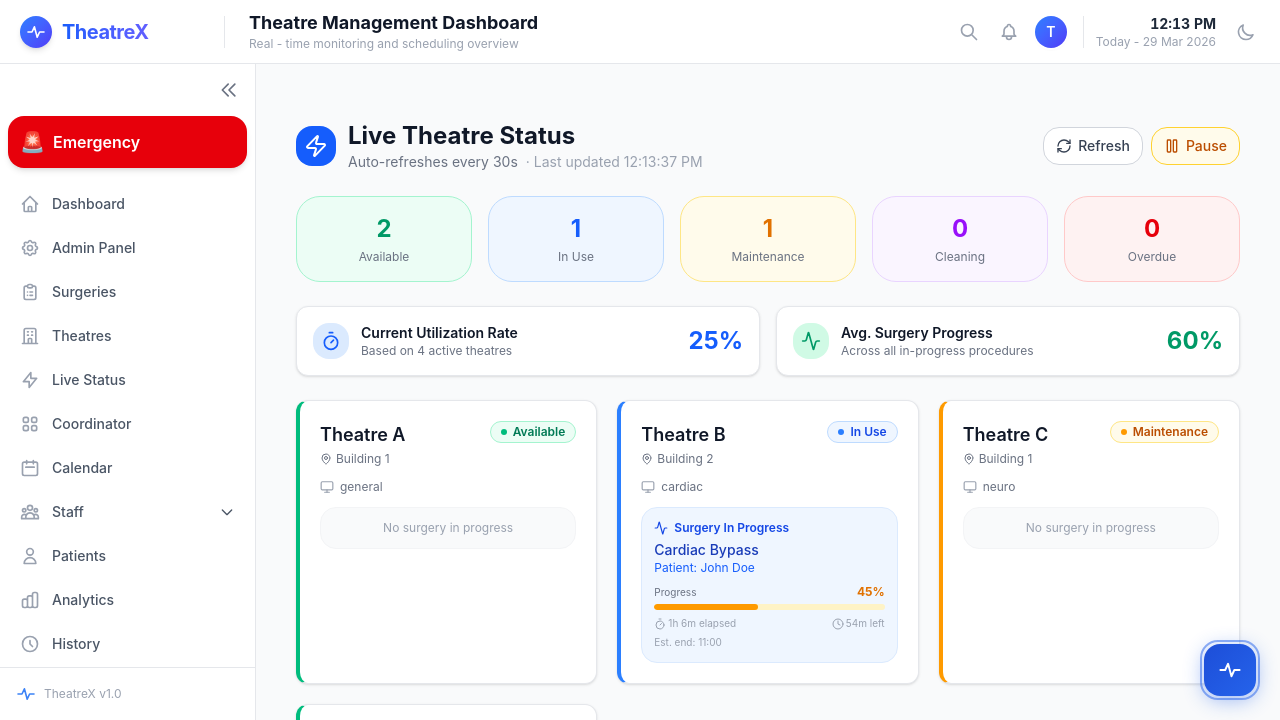
Scenario: LiveStatusPage › should toggle to Resume when Pause is clicked
Click the button "Pause" at (1195, 146), box 1151,127 -> 1240,165
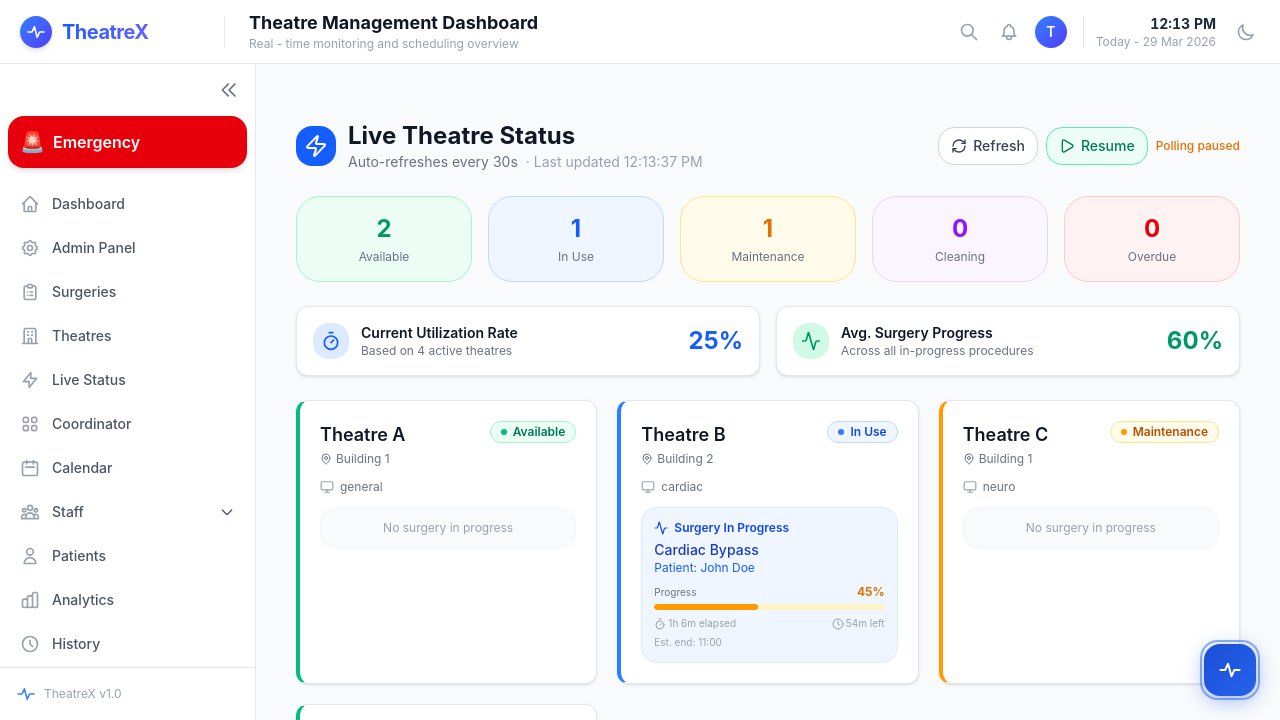
Expected: the button "Resume" is shown, 1046,127 -> 1148,165
Expected: the text "Polling paused" is shown, 1156,138 -> 1240,154
